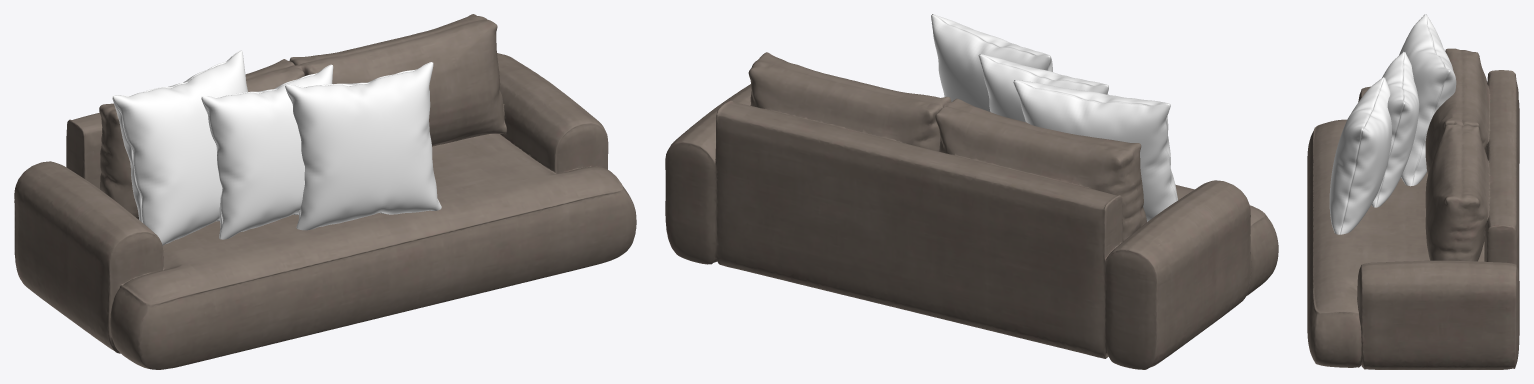
Rendered from escena_hero.glb.
3 views of the same model, side by side, from view 1: azimuth 30°, elevation 25°; view 2: azimuth 150°, elevation 25°; view 3: azimuth 270°, elevation 25° (orthographic). The views are drawn at different scales.
Parts seen in each view (by area): view 1: geometry_0, Object_2; view 2: geometry_0, Object_2; view 3: geometry_0, Object_2.
Part boxes in pixels (x1,y1,x2,y2): geometry_0: (14, 14, 636, 369); Object_2: (112, 50, 441, 245); geometry_0: (665, 52, 1278, 369); Object_2: (931, 14, 1177, 221); geometry_0: (1307, 48, 1519, 369); Object_2: (1329, 14, 1456, 234).
Size of the model in its own units: 1 by 0.4267 by 0.4499.
2 materials, 1 textured.
